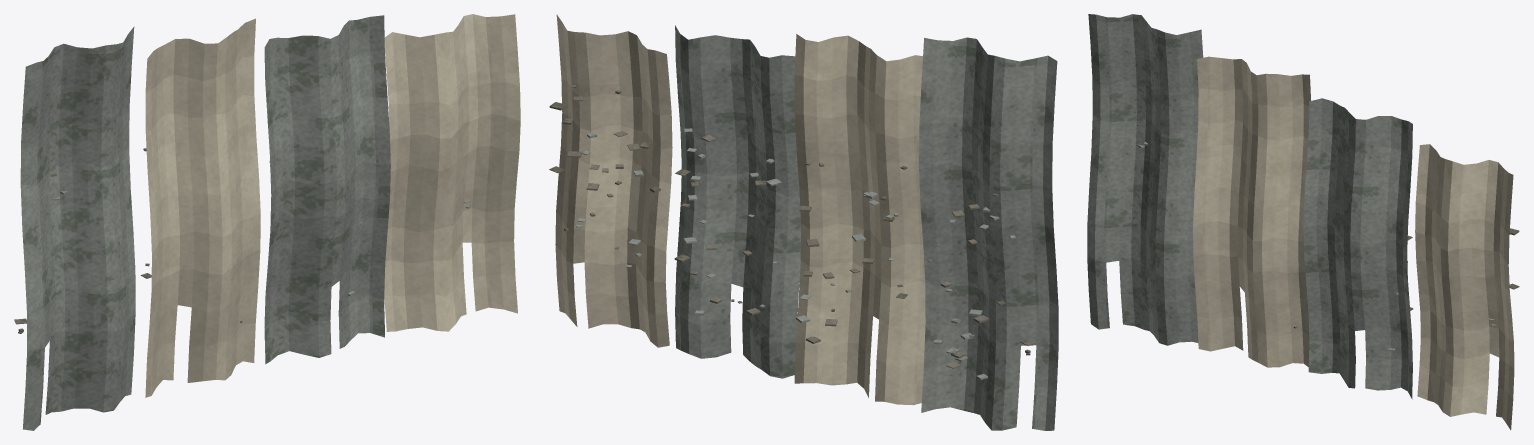
The model's file is peeling_wallpaper_panels.glb.
The picture shows the model from 3 angles, left to right: view 1: azimuth 30°, elevation 25°; view 2: azimuth 150°, elevation 25°; view 3: azimuth 330°, elevation 25°; orthographic projection. The views are drawn at different scales.
Visible parts, largest first — view 1: InteriorPropGeometry; view 2: InteriorPropGeometry; view 3: InteriorPropGeometry.
Part boxes in pixels (bbox=[...]): InteriorPropGeometry: bbox=[14, 14, 520, 430]; InteriorPropGeometry: bbox=[549, 14, 1058, 430]; InteriorPropGeometry: bbox=[1087, 14, 1519, 430].
Bounding box in the file's own units: 2.54 × 1.82 × 0.2112.
3 materials, 3 textured.
